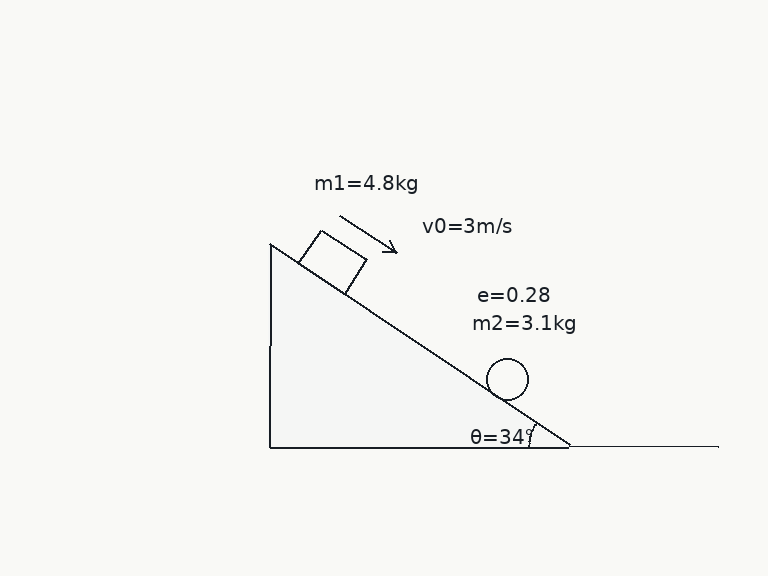ball: (484, 356, 530, 402)
block: (296, 227, 369, 296)
ramp: (267, 242, 571, 448)
